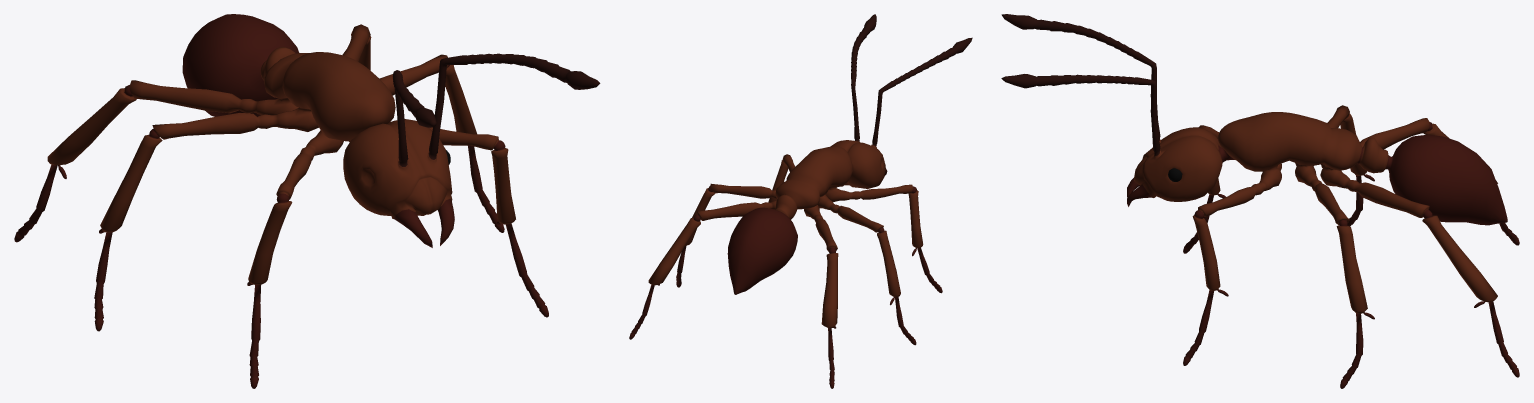
File: ant.obj
The picture shows the model from 3 angles, left to right: view 1: azimuth 30°, elevation 25°; view 2: azimuth 150°, elevation 25°; view 3: azimuth 270°, elevation 25°; orthographic projection. The views are drawn at different scales.
Visible parts, largest first — view 1: ant; view 2: ant; view 3: ant.
Part boxes in pixels (x1,y1,x2,y2): ant: (14,14,600,388); ant: (629,14,972,388); ant: (1001,14,1519,388).
Bounding box in the file's own units: 0.0196 × 0.0155 × 0.0274.
